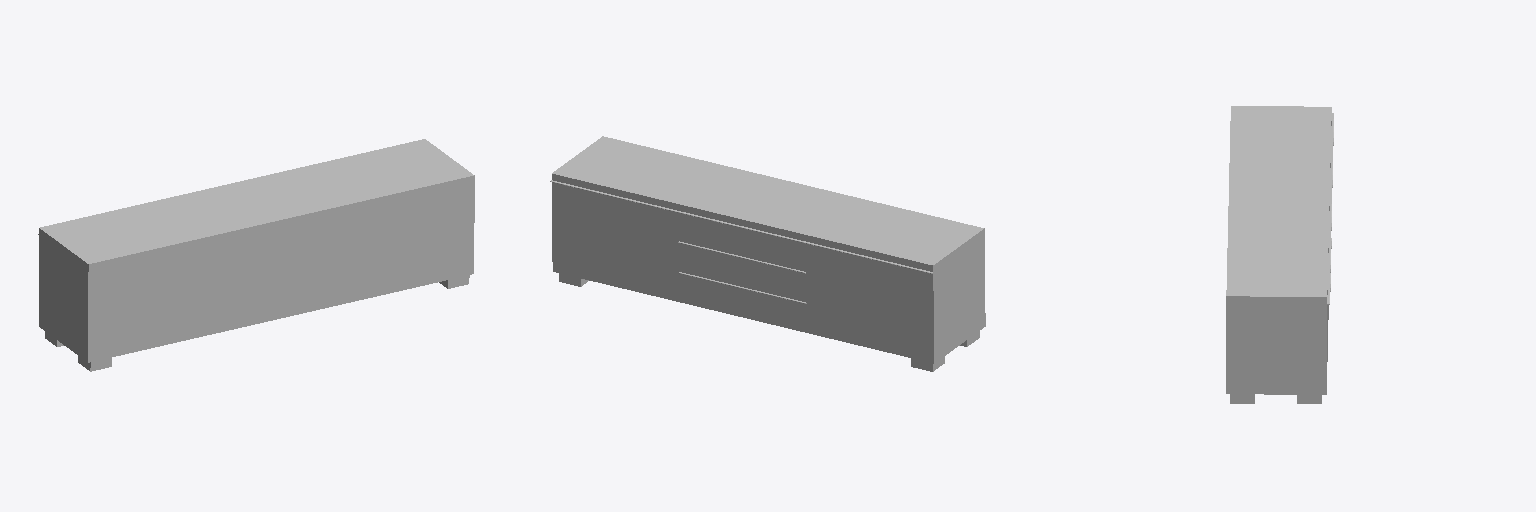
File: MesaTV.obj
3 renders of one model, left to right at view 1: azimuth 30°, elevation 25°; view 2: azimuth 150°, elevation 25°; view 3: azimuth 270°, elevation 25°, orthographic.
Bounding box in the file's own units: 301 × 84.27 × 73.36.